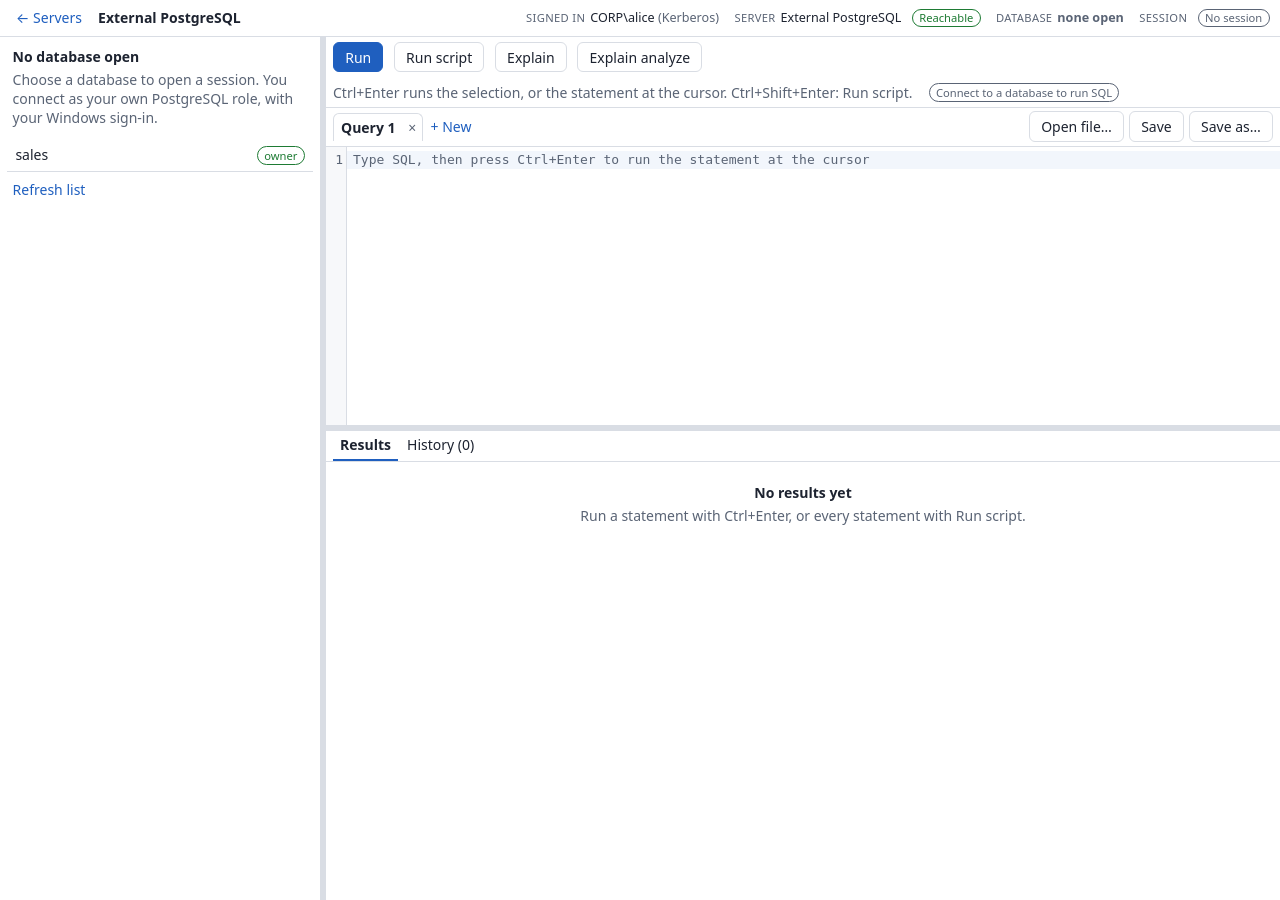
it: Workspace administration (admin Phase 3) › Explain analyze warns that the statement runs, and runs it only when confirmed
Click the button "sales owner".
click(32, 155)  # box [7,139,313,172]
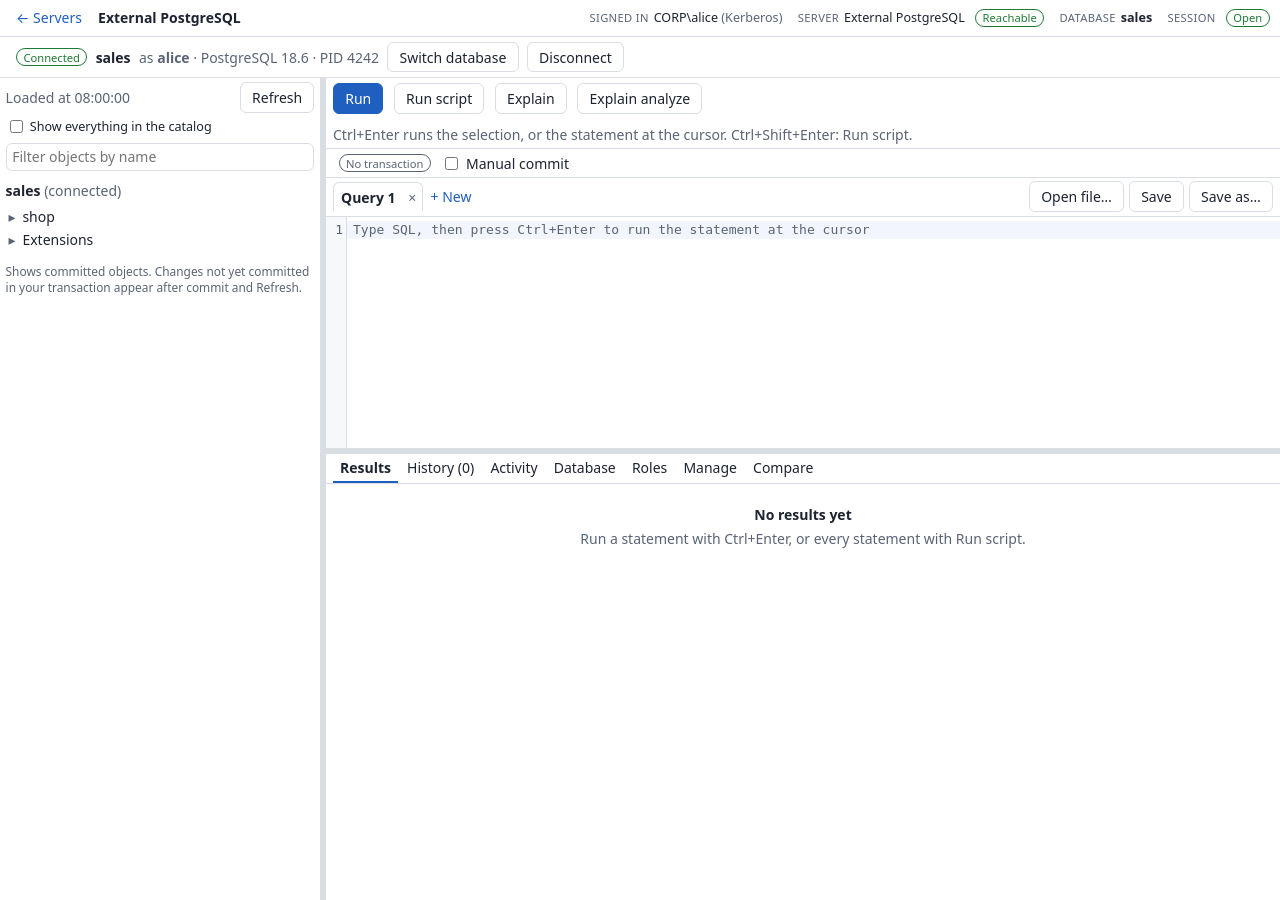
Expected: the button "Switch database" is shown, [387,42,518,72]
Click the field named "SQL editor".
click(814, 230)  # box [347,221,1279,239]
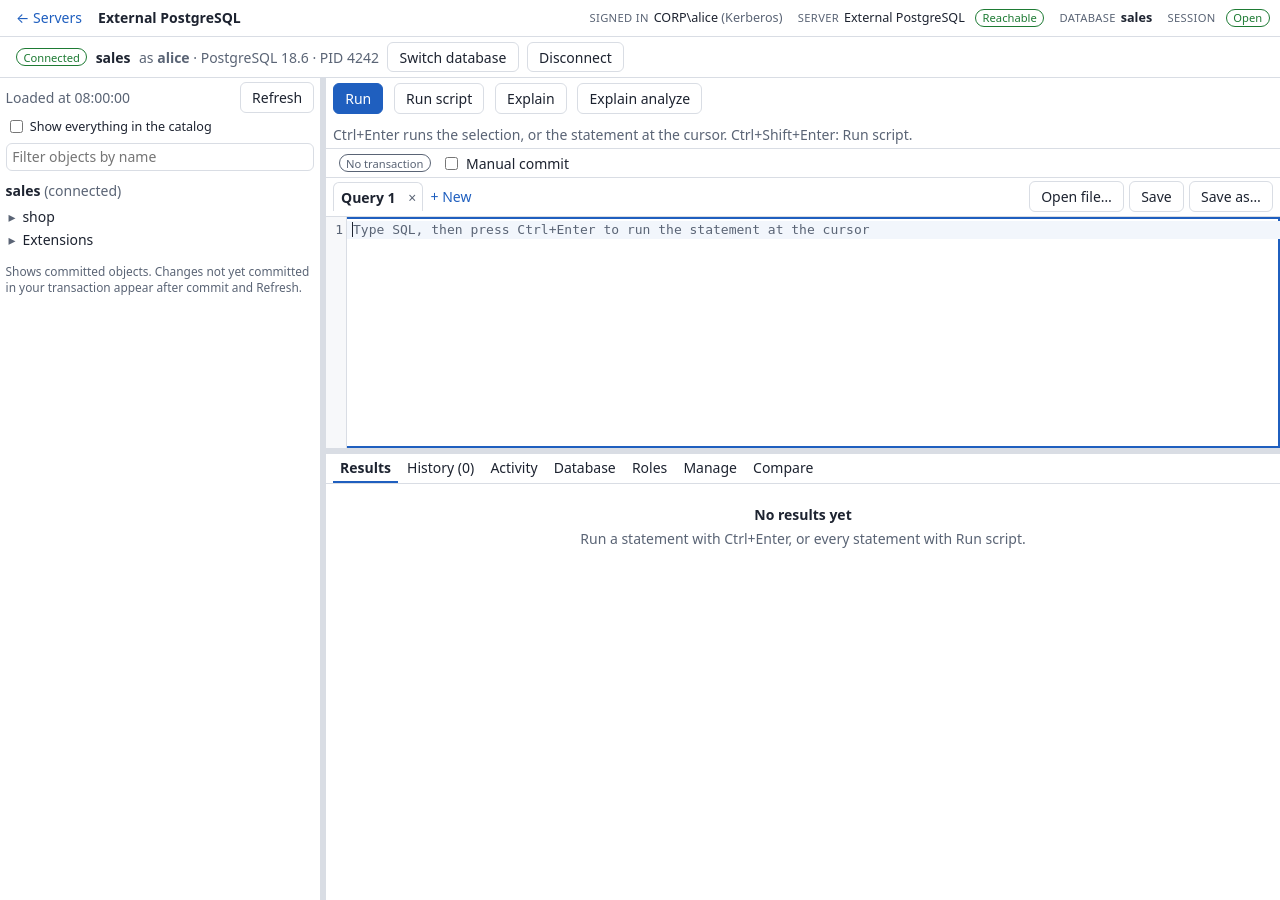
Type keys "DELETE FROM orders WHERE id = 1"
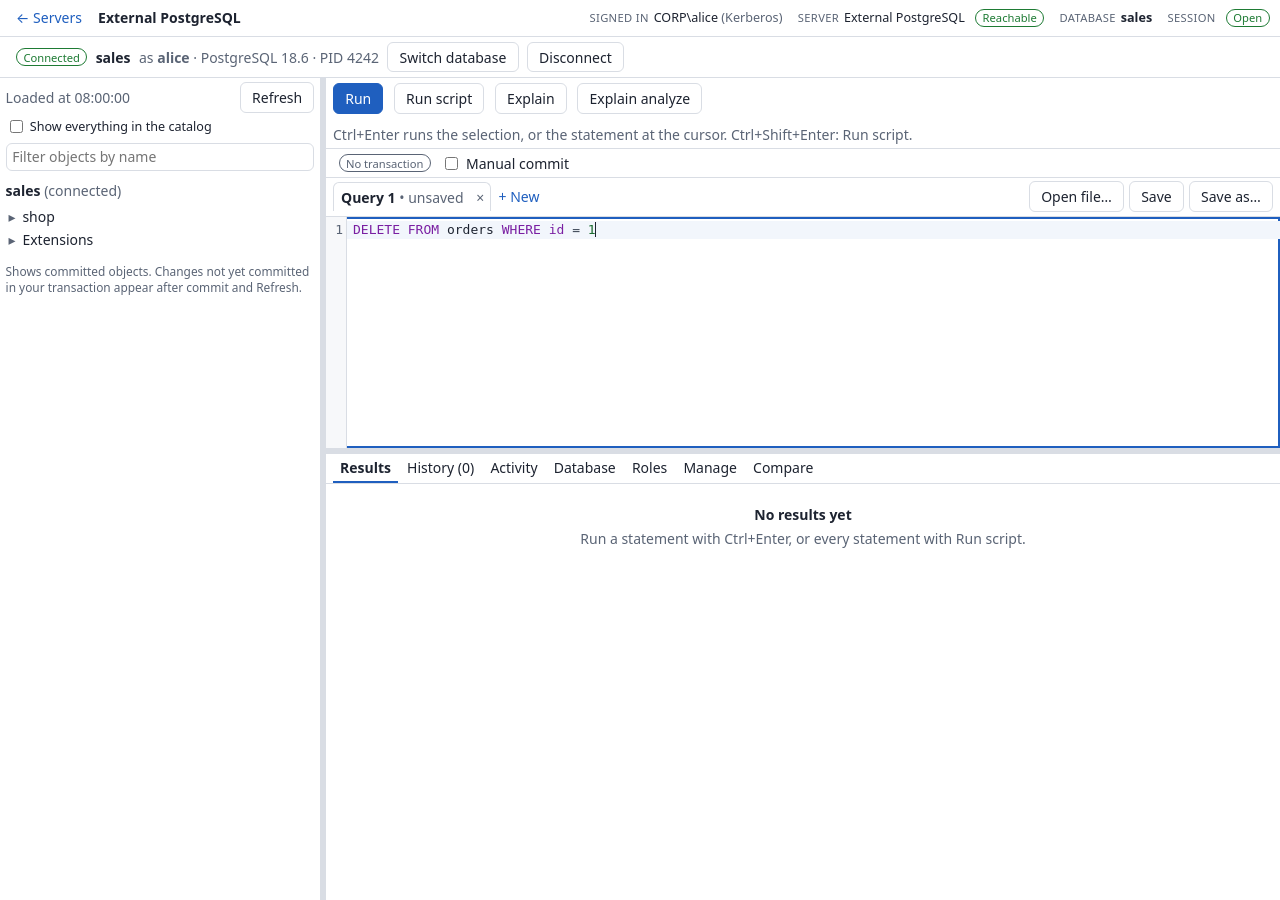
Click the button "Explain analyze".
click(640, 99)  # box [577,83,702,114]
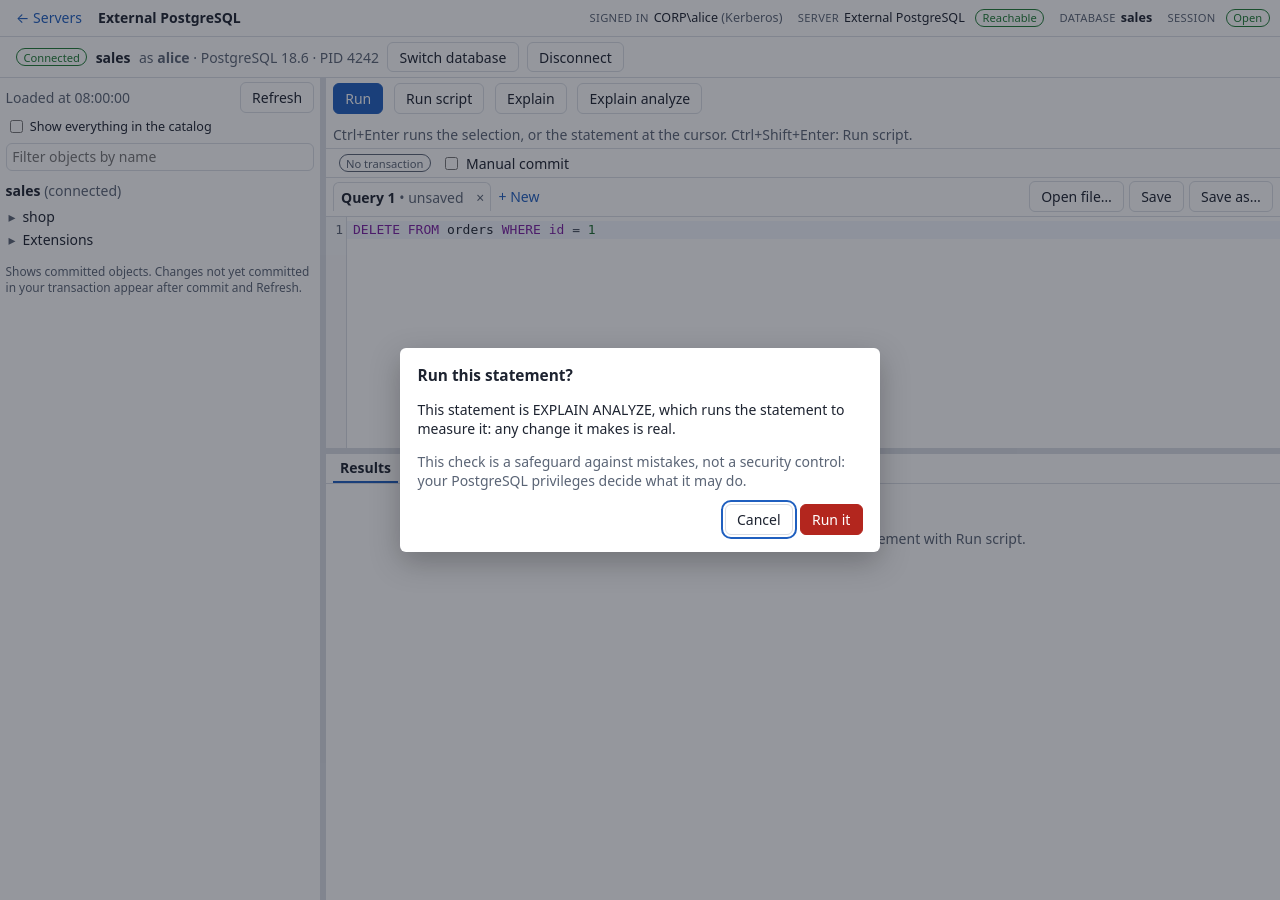
Expected: the dialog shows "runs the statement to measure it", [418,400,844,438]
Click the button "Run it".
click(831, 520)  # box [800,504,862,535]
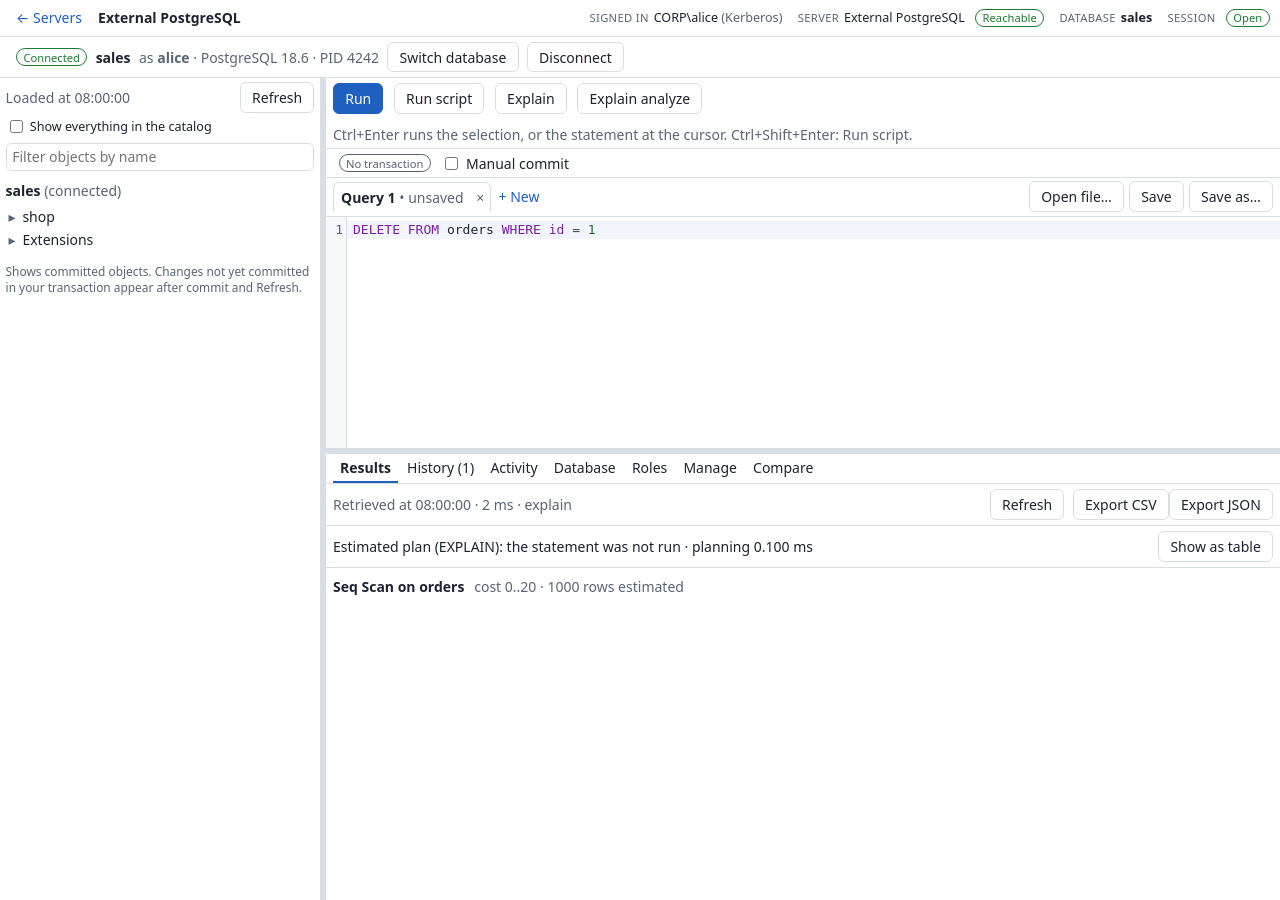
Expected: the list named "Query plan" is shown, [333,577,684,596]
